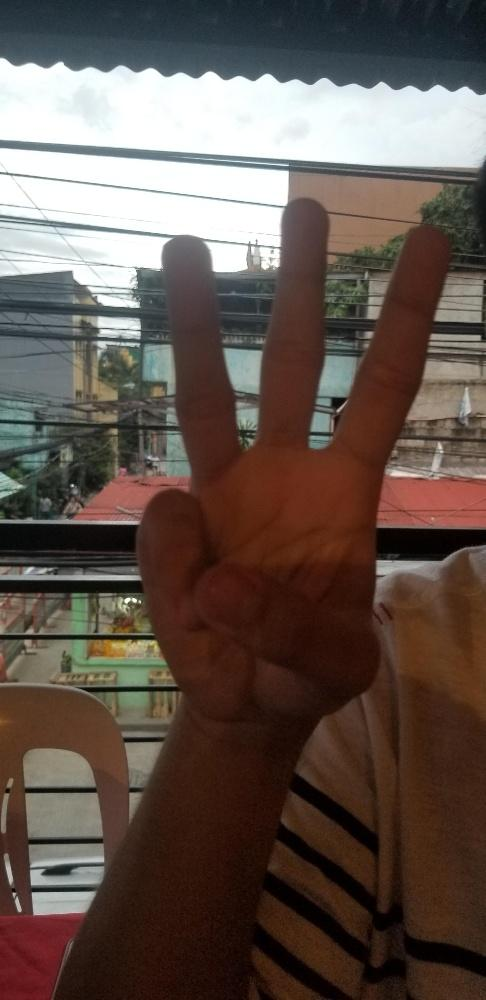w: (134, 196, 452, 712)
